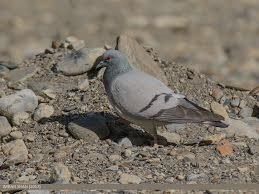pigeon: (93, 48, 230, 149)
